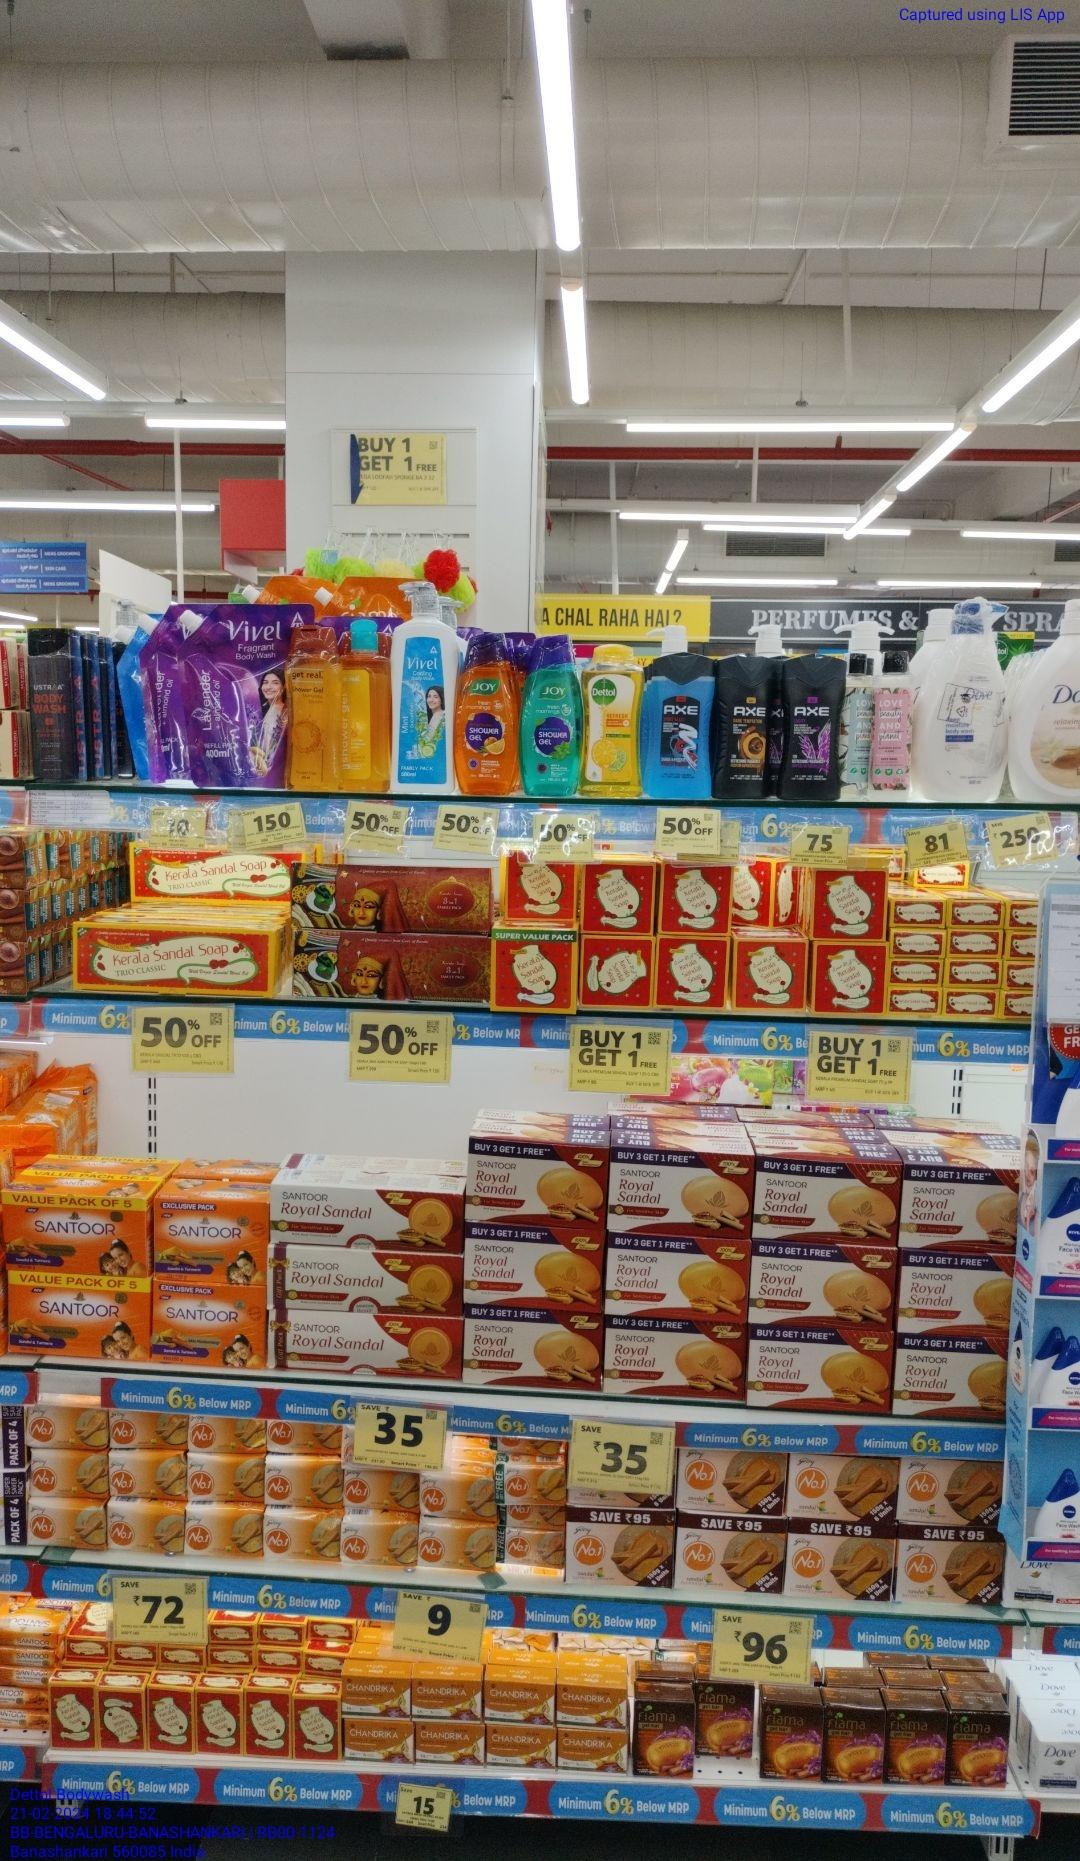Dettol_Bodywash_Refresh: (580, 644, 643, 797)
Get_Real_Shower_Gel_Moisturising_Glycerin_300ML: (283, 626, 343, 792)
Joy_Shower_Gel_Mandarin_and_Lemongrass_250ML: (456, 639, 519, 796)
Joy_Shower_Gel_Mint_and_Eucalyptus_250ML: (522, 636, 577, 796)
